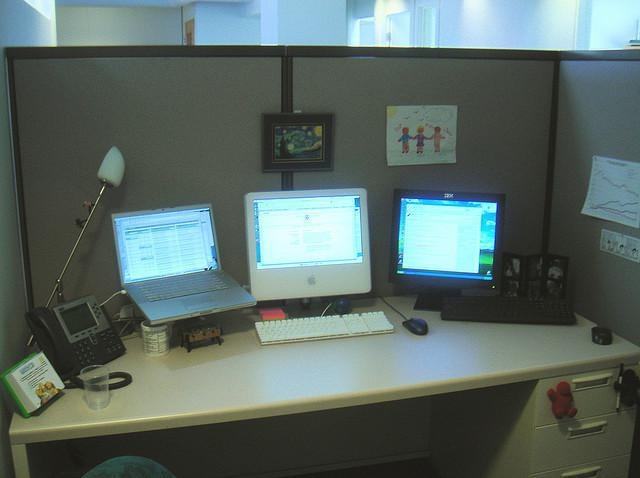tv: (243, 189, 369, 300), (113, 211, 230, 315), (401, 189, 507, 299)
